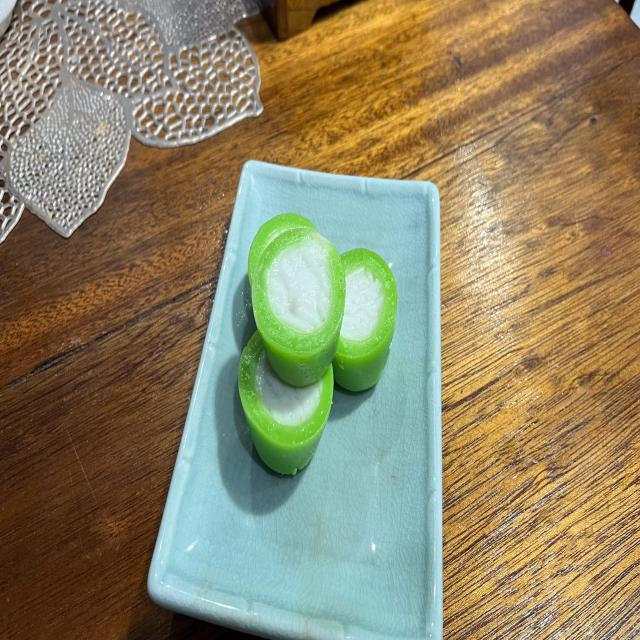nona-manis: (251, 227, 345, 387), (239, 331, 334, 476), (332, 249, 398, 391), (248, 213, 316, 284)
